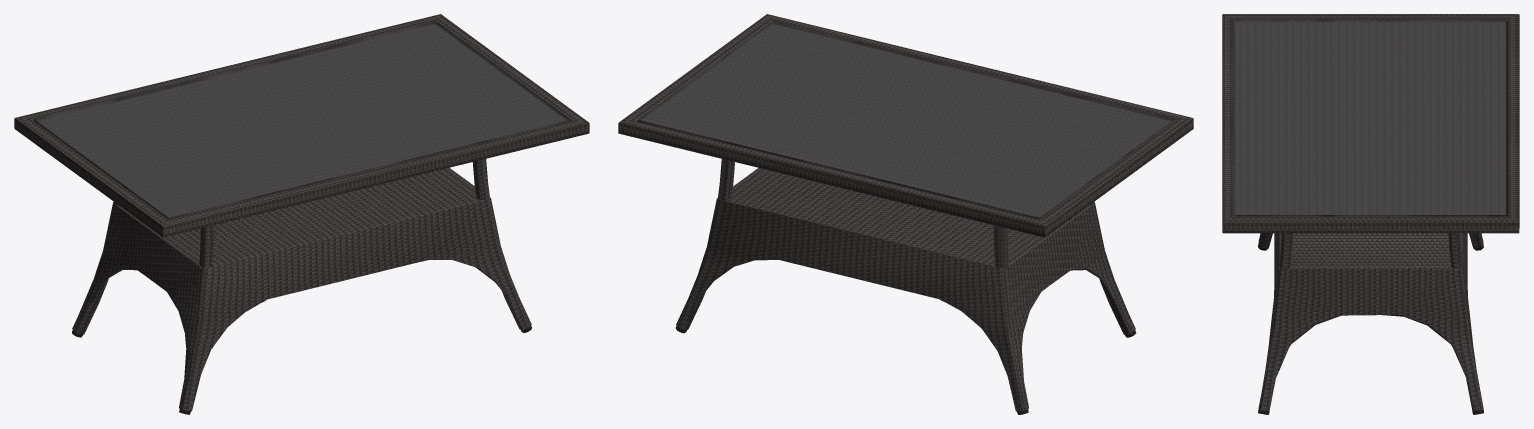
3 renders of one model, left to right at view 1: azimuth 30°, elevation 25°; view 2: azimuth 150°, elevation 25°; view 3: azimuth 270°, elevation 25°, orthographic.
Visible parts, largest first — view 1: ijiandt_0; view 2: ijiandt_0; view 3: ijiandt_0.
Part boxes in pixels (x1,y1,x2,y2): ijiandt_0: (14, 14, 589, 414); ijiandt_0: (618, 14, 1193, 414); ijiandt_0: (1222, 14, 1519, 414).
Bounding box in the file's own units: 1.5 × 0.7215 × 0.9031.
2 materials, 1 textured.
